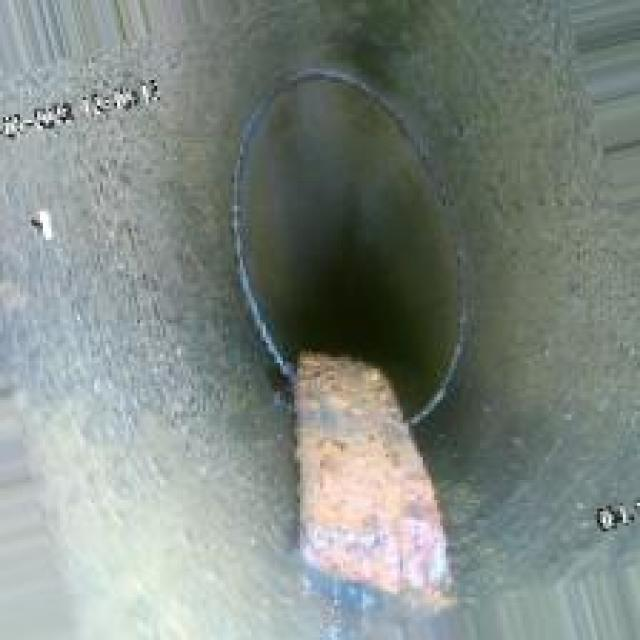stone: (277, 348, 469, 612)
